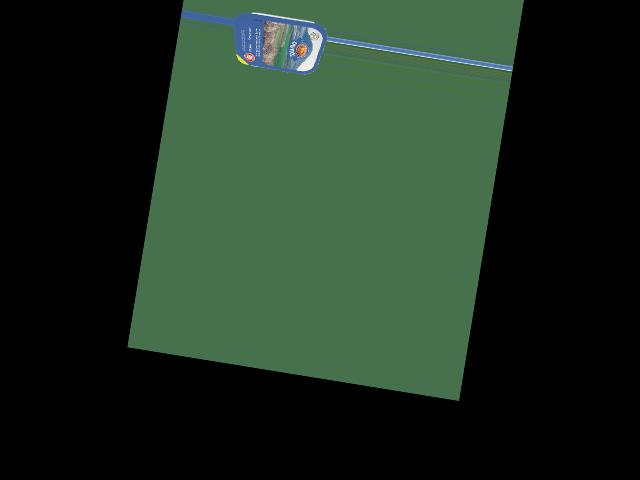cheese: (237, 4, 323, 78)
